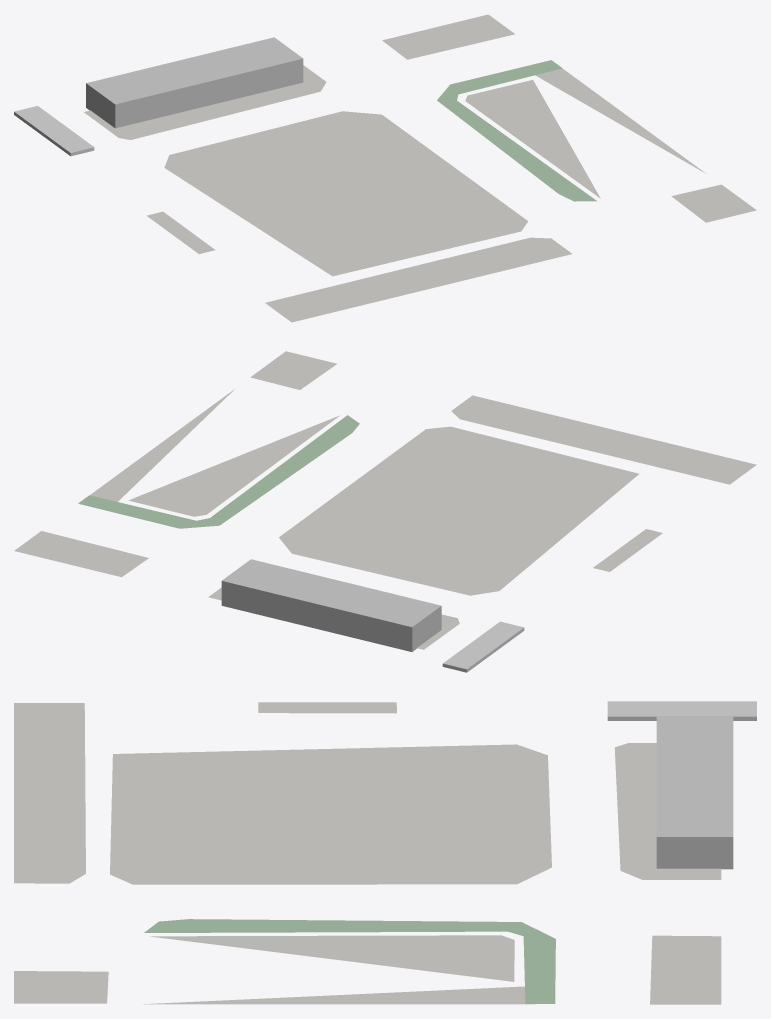
The model's file is 122_71_mid.glb.
3 renders of one model, top to bottom at view 1: azimuth 30°, elevation 25°; view 2: azimuth 150°, elevation 25°; view 3: azimuth 270°, elevation 25°, orthographic. The views are drawn at different scales.
Size of the model in its own units: 500 by 25.67 by 525.
